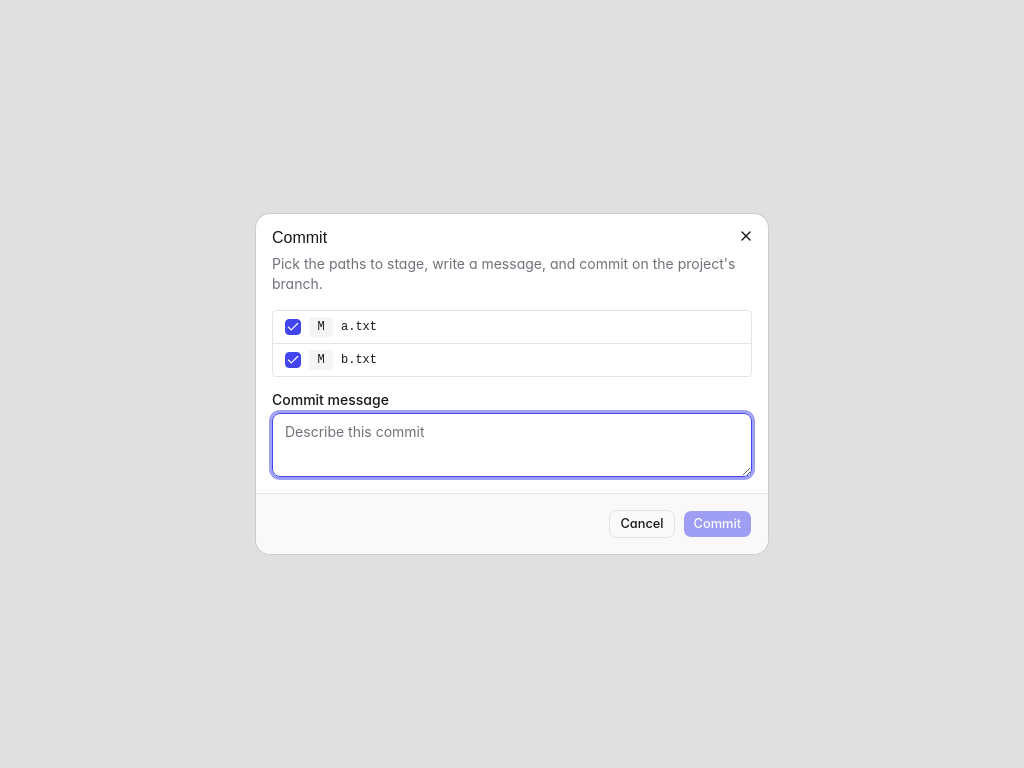
Test case: GitCommitDialog — success › renders 'file' (singular) when files_committed === 1
Type "feat: x" into the text box with test id "git-commit-message" at x=512, y=445, box 272,413 -> 752,477
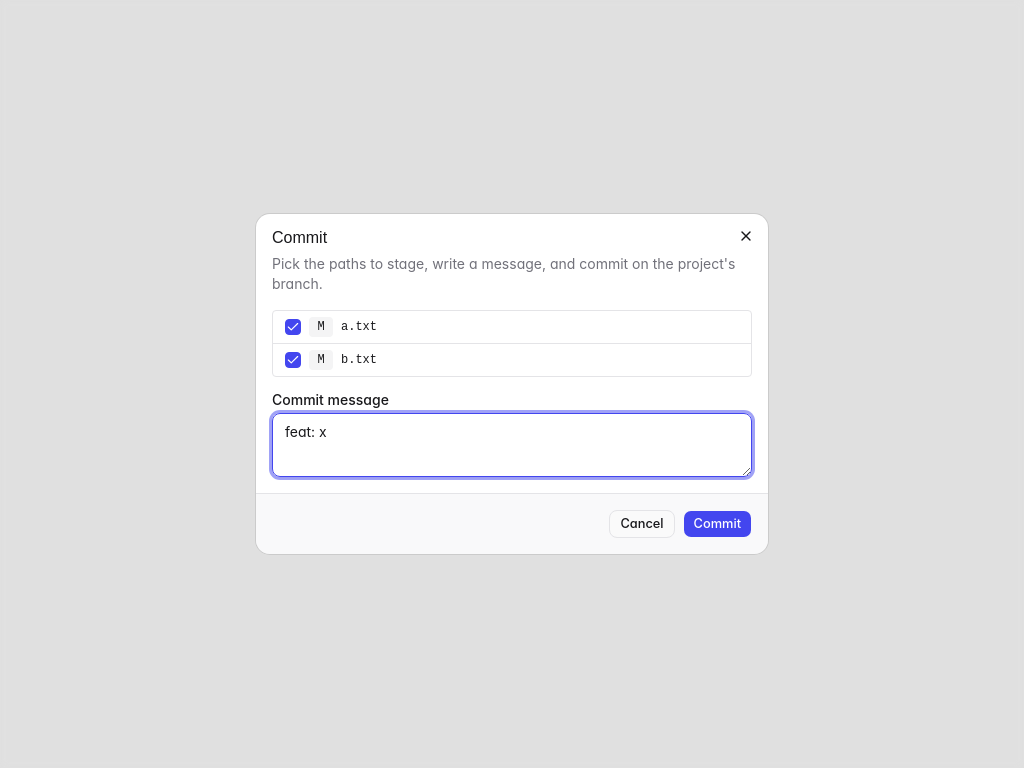
Click the button with test id "git-commit-submit" at x=717, y=524, box 683,510 -> 752,538
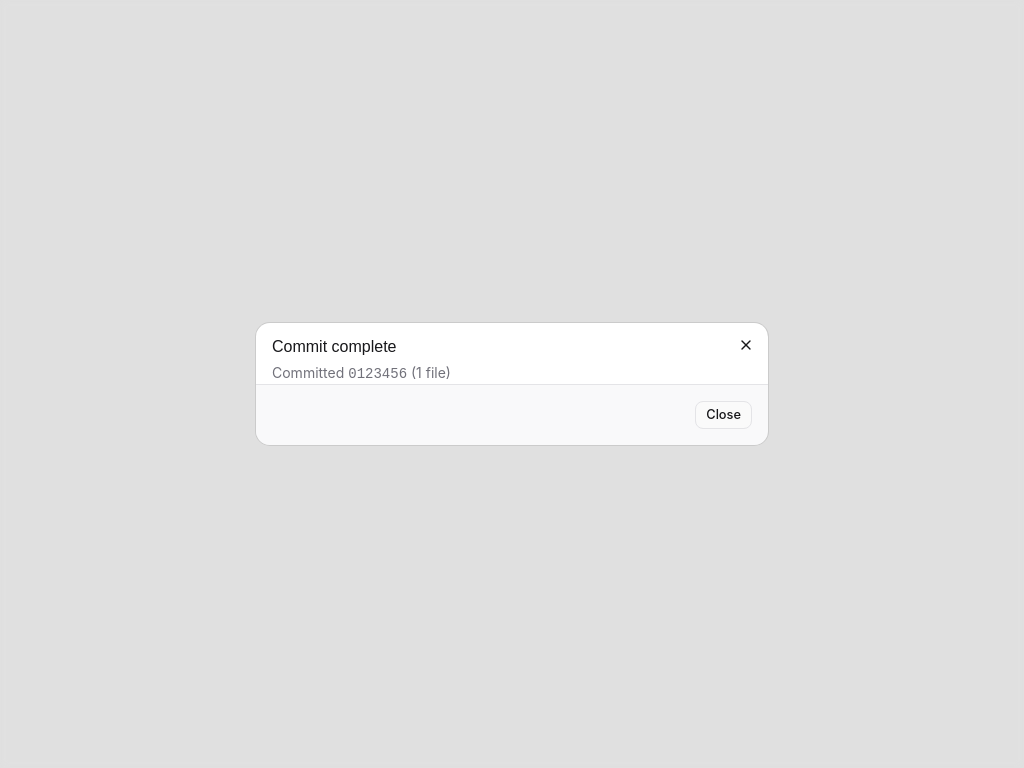
Check: the element with test id "git-commit-success" does not show "1 files", box 272,339 -> 752,429
Check: the element with test id "git-commit-success" reads "Commit complete Committed 0123456 (1 file) Close", box 272,339 -> 752,429
